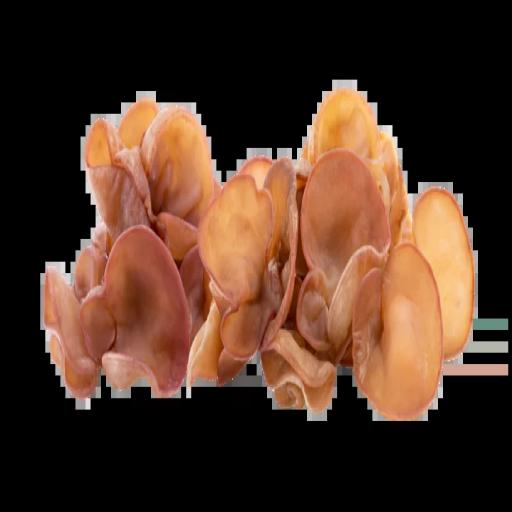Wood Ear Mushroom: (39, 68, 488, 444)
